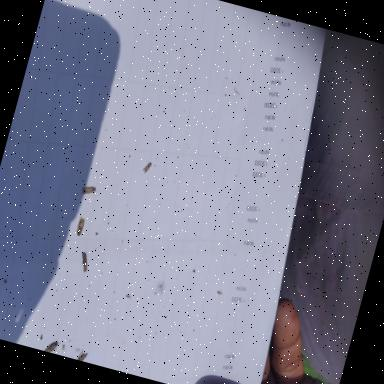pbw: (44, 340, 63, 356), (75, 215, 87, 237), (78, 253, 91, 273), (81, 184, 97, 198), (142, 161, 152, 175), (77, 350, 88, 362)
